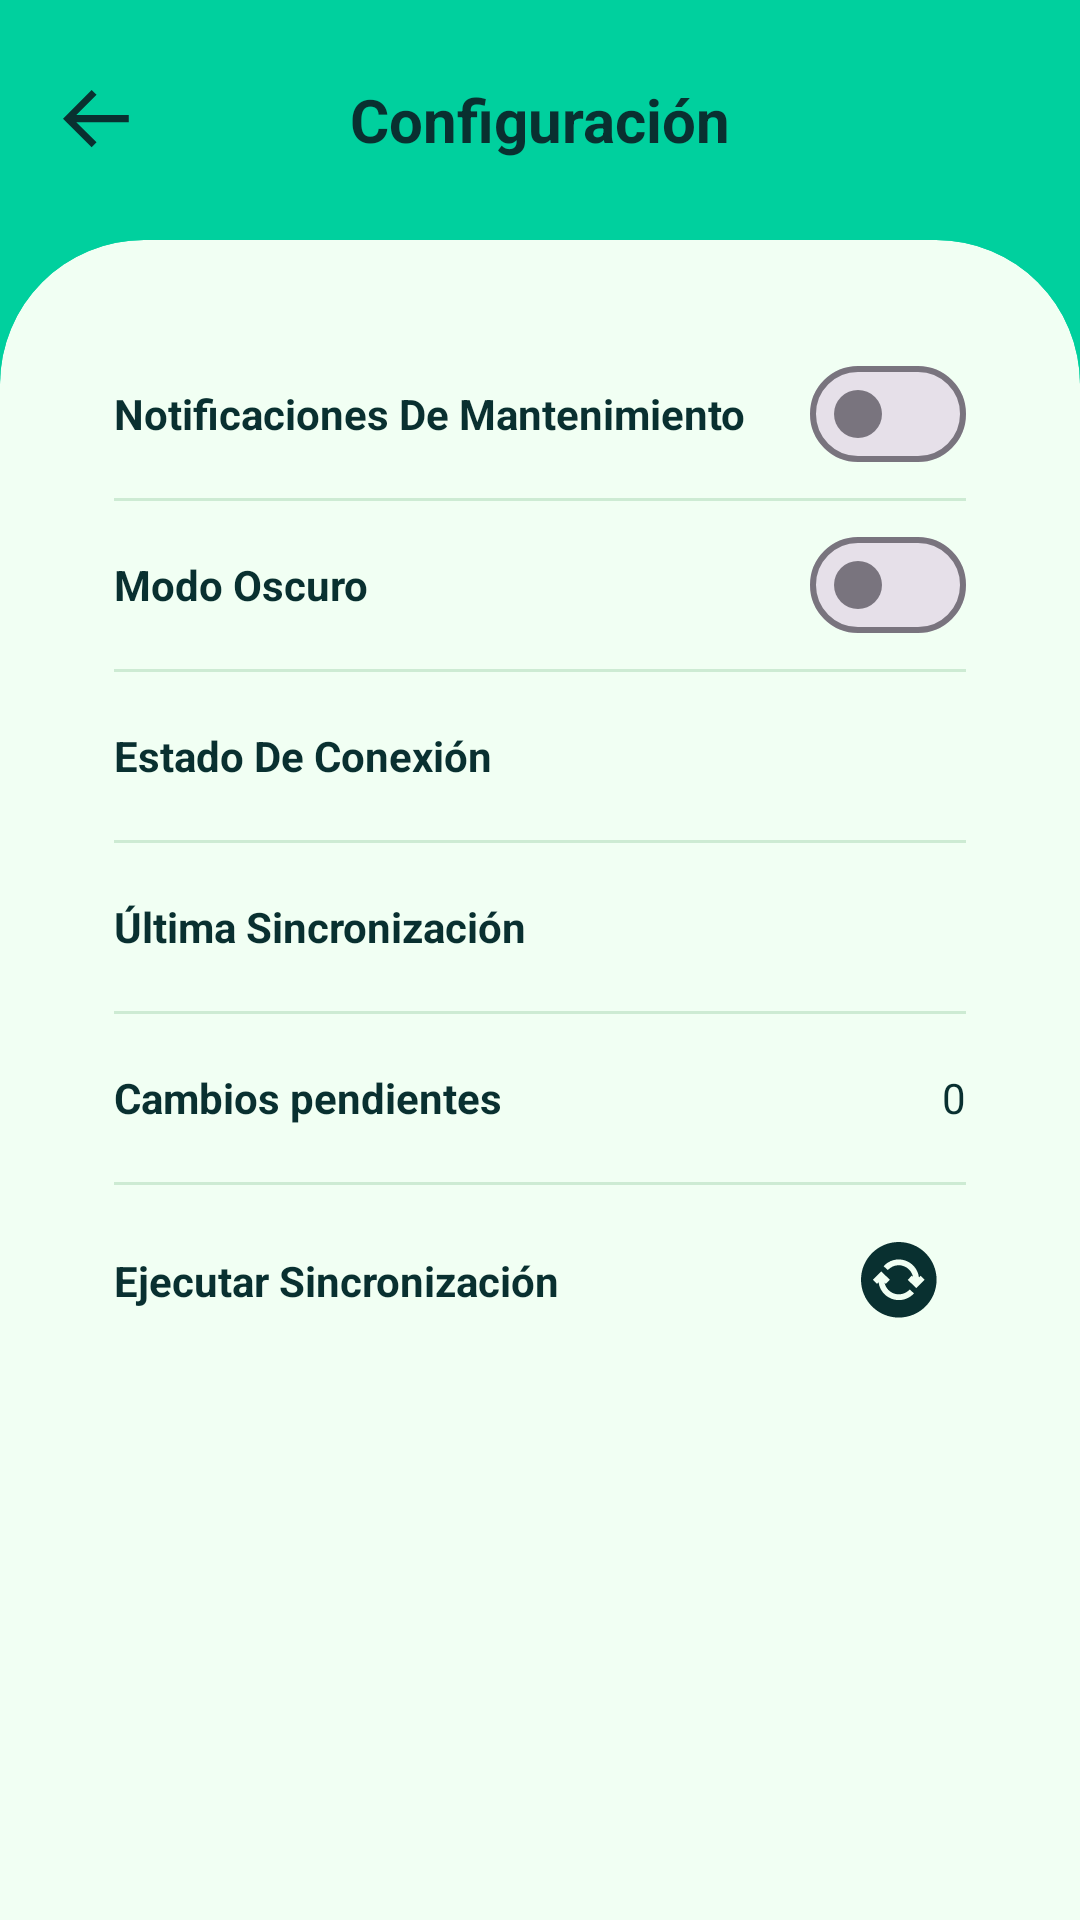

Named icons in this screenshot (1080 × 1920) and their bounding boxes, (x1, y1, x2, y2):
arrow back: (63, 90, 129, 147)
